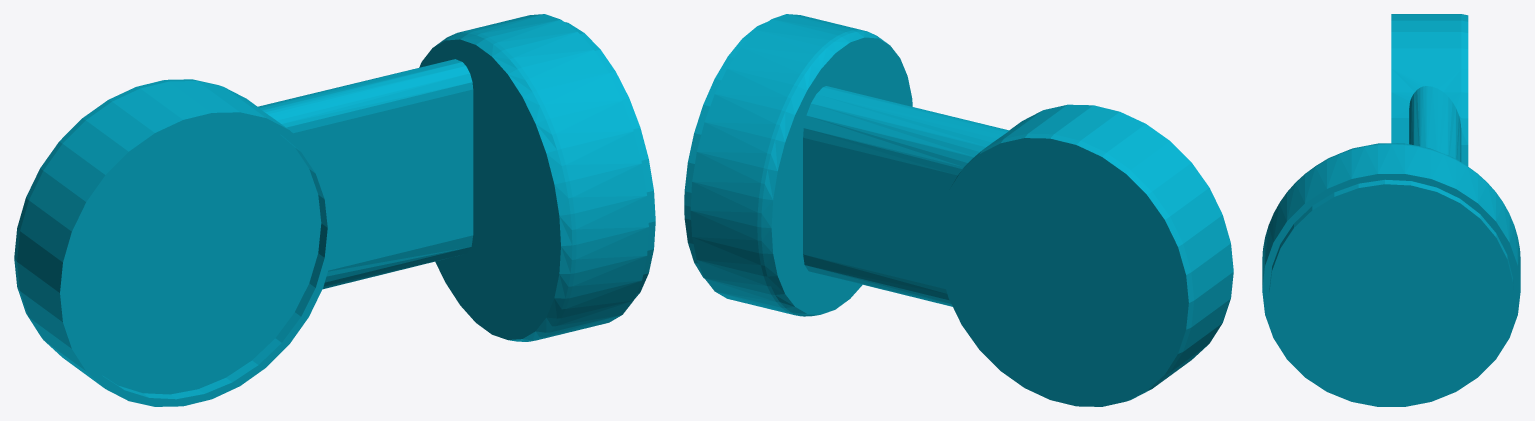
The model's file is elbow_flex_link.dae.
3 renders of one model, left to right at view 1: azimuth 30°, elevation 25°; view 2: azimuth 150°, elevation 25°; view 3: azimuth 270°, elevation 25°, orthographic. The views are drawn at different scales.
Visible parts, largest first — view 1: elbow_flex_link; view 2: elbow_flex_link; view 3: elbow_flex_link.
Part boxes in pixels (box(x1,y1,x2,y2)): elbow_flex_link: box(14, 14, 655, 406); elbow_flex_link: box(684, 14, 1233, 406); elbow_flex_link: box(1262, 14, 1520, 406).
Size of the model in its own units: 0.14 by 0.074 by 0.074.
